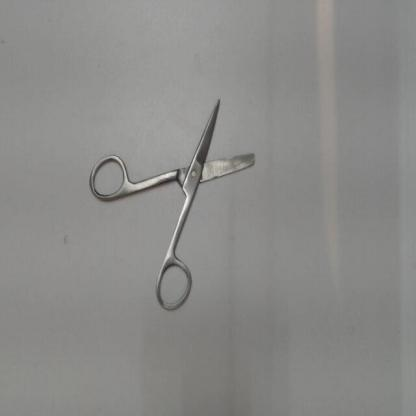Dressing Scissors: (81, 84, 264, 319)
